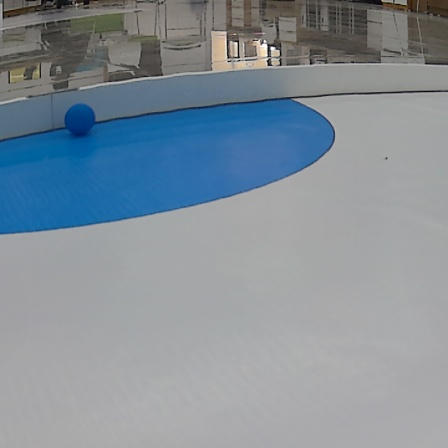blue: (64, 105, 97, 136)
blue_base: (1, 95, 336, 235)
